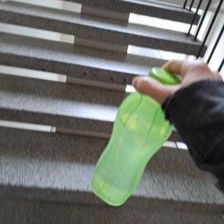bottle: (89, 64, 181, 208)
